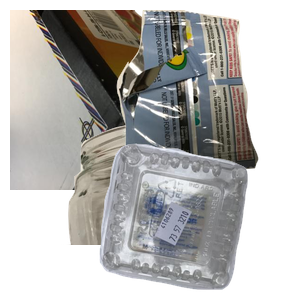cardboard: (10, 10, 238, 190)
glass: (61, 120, 287, 300)
plastic: (97, 141, 300, 300)
trash: (114, 10, 300, 180)
